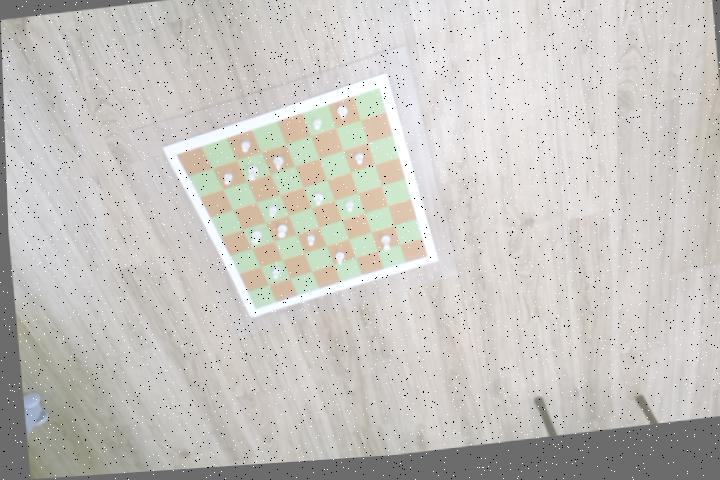chessboard-detect: (175, 90, 426, 312)
